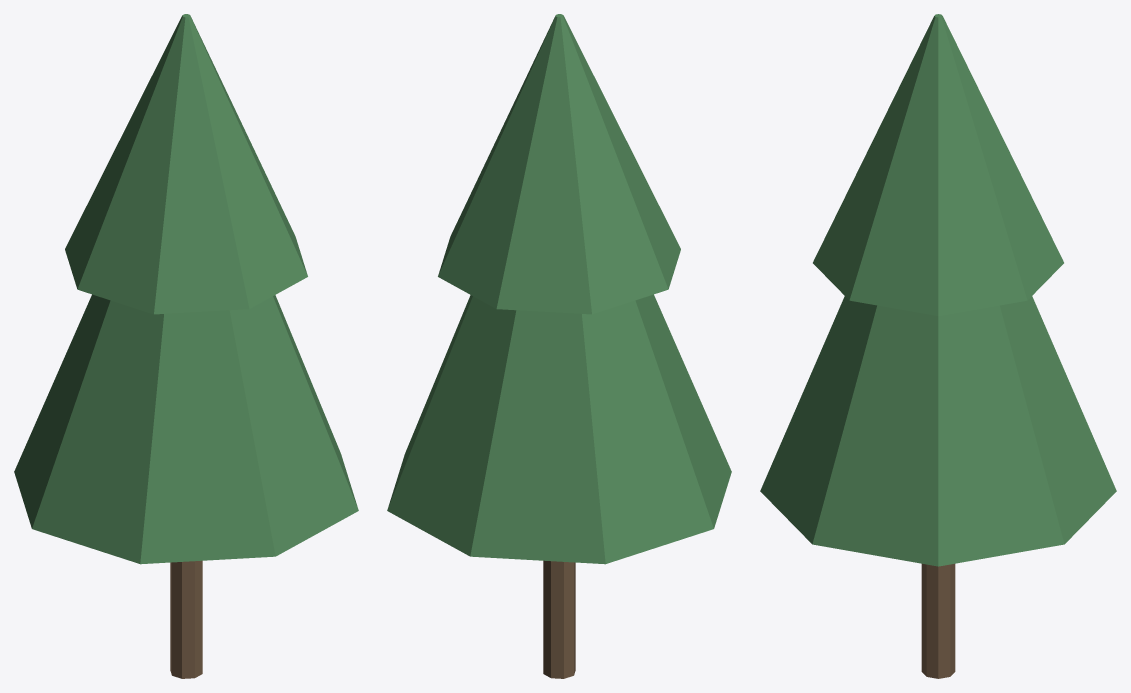
File: pine.glb
The picture shows the model from 3 angles, left to right: view 1: azimuth 30°, elevation 25°; view 2: azimuth 150°, elevation 25°; view 3: azimuth 270°, elevation 25°; orthographic projection.
Parts seen in each view (by area): view 1: trunk; view 2: trunk; view 3: trunk.
Part boxes in pixels (x1,y1,x2,y2): trunk: (14,14,358,678); trunk: (387,14,731,678); trunk: (760,14,1116,678).
Bounding box in the file's own units: 3.4 × 6.9 × 3.4.
